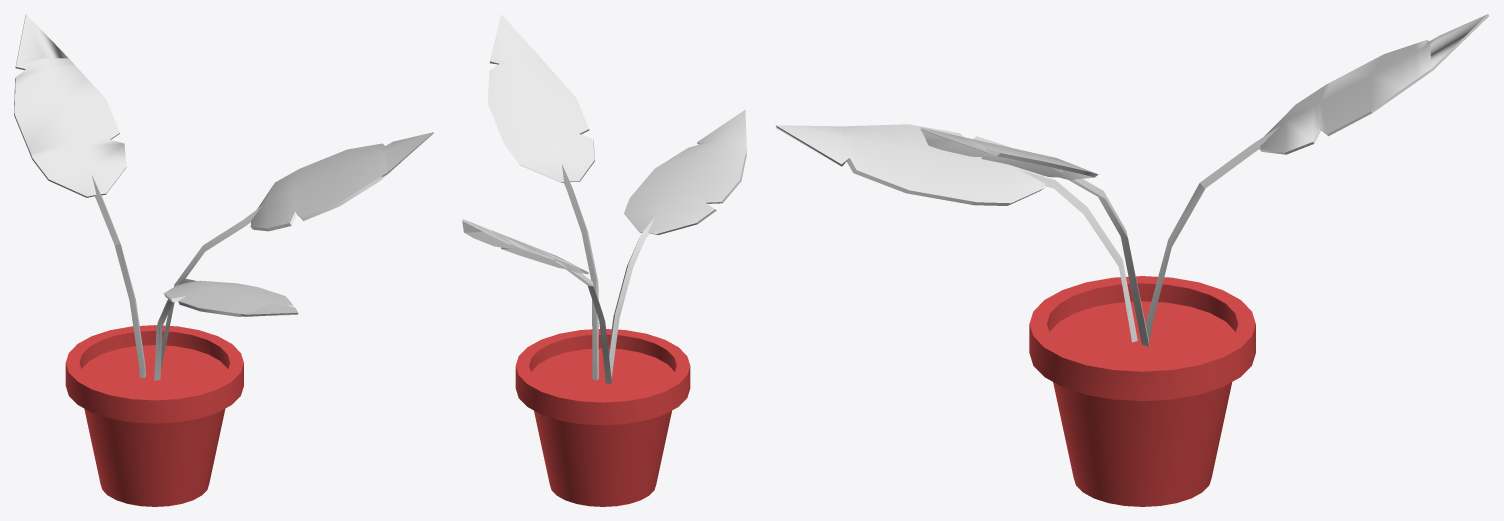
Rendered from Pflanze_003.fbx.
The picture shows the model from 3 angles, left to right: view 1: azimuth 30°, elevation 25°; view 2: azimuth 150°, elevation 25°; view 3: azimuth 270°, elevation 25°; orthographic projection. The views are drawn at different scales.
Parts seen in each view (by area): view 1: Pflanze3; view 2: Pflanze3; view 3: Pflanze3.
Part boxes in pixels (bbox=[...]): Pflanze3: bbox=[14, 14, 433, 506]; Pflanze3: bbox=[462, 14, 746, 506]; Pflanze3: bbox=[776, 14, 1488, 506].
Size of the model in its own units: 3.46 by 4.55 by 6.27.
